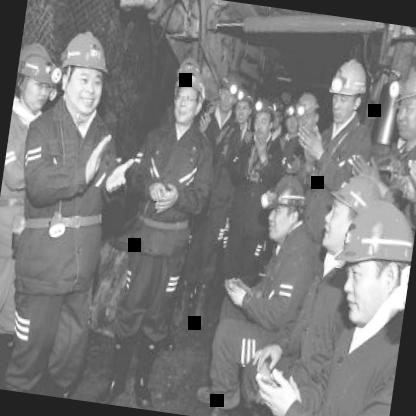helmet: (325, 186, 416, 322), (53, 22, 116, 122), (321, 173, 378, 258), (322, 54, 372, 129), (12, 38, 60, 113), (264, 174, 310, 238), (168, 58, 210, 128), (390, 60, 416, 141), (285, 86, 318, 135), (212, 68, 240, 116), (249, 100, 276, 145), (232, 85, 257, 125)
